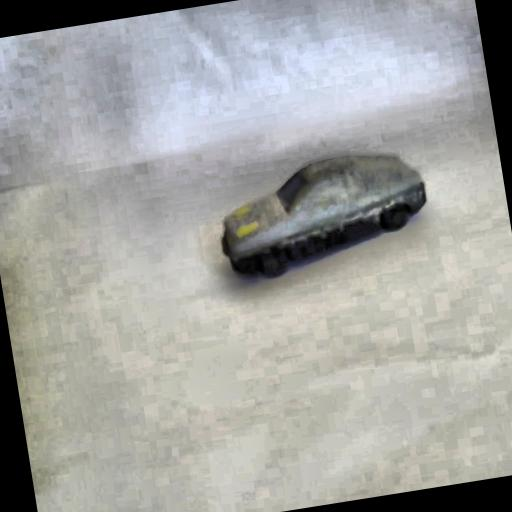normal_car: (206, 136, 440, 288)
